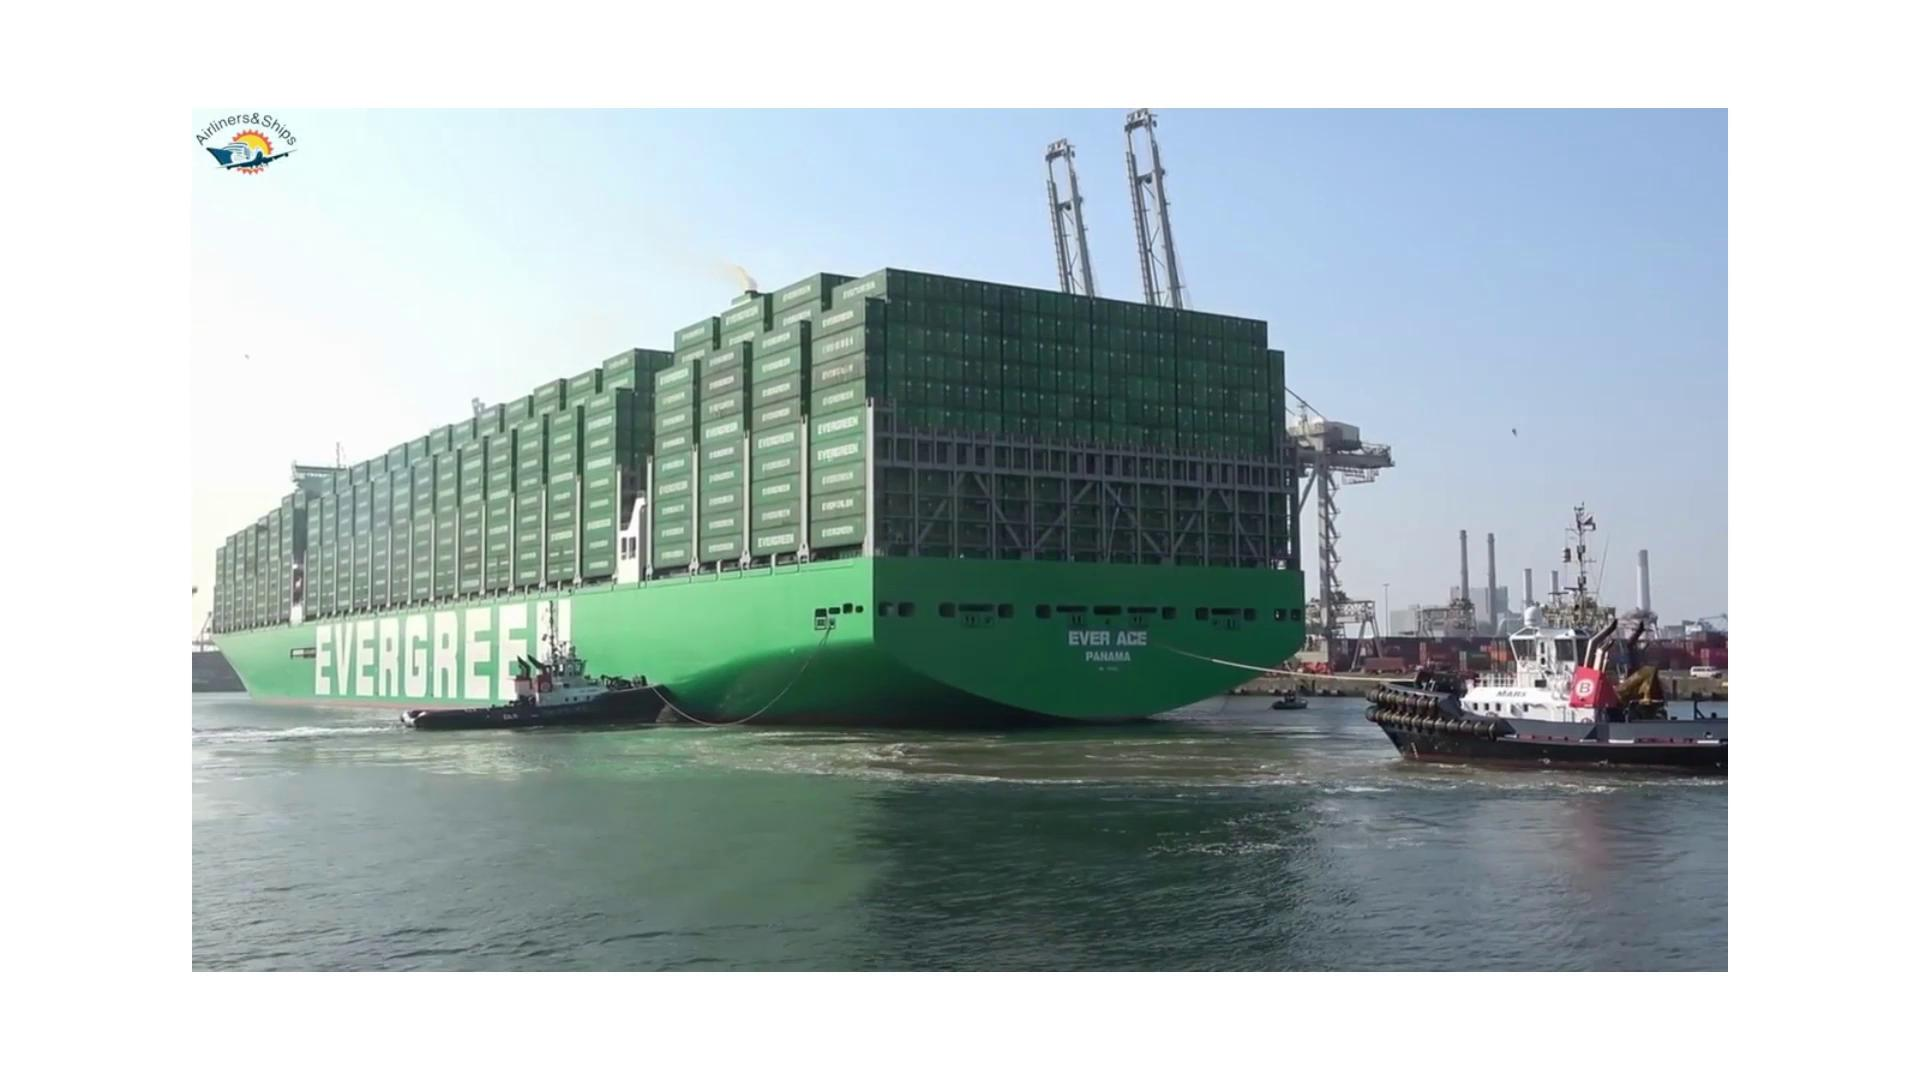OCR: (289, 597, 596, 708), (1051, 615, 1176, 683)
